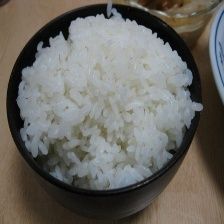rice: (13, 12, 201, 191)
